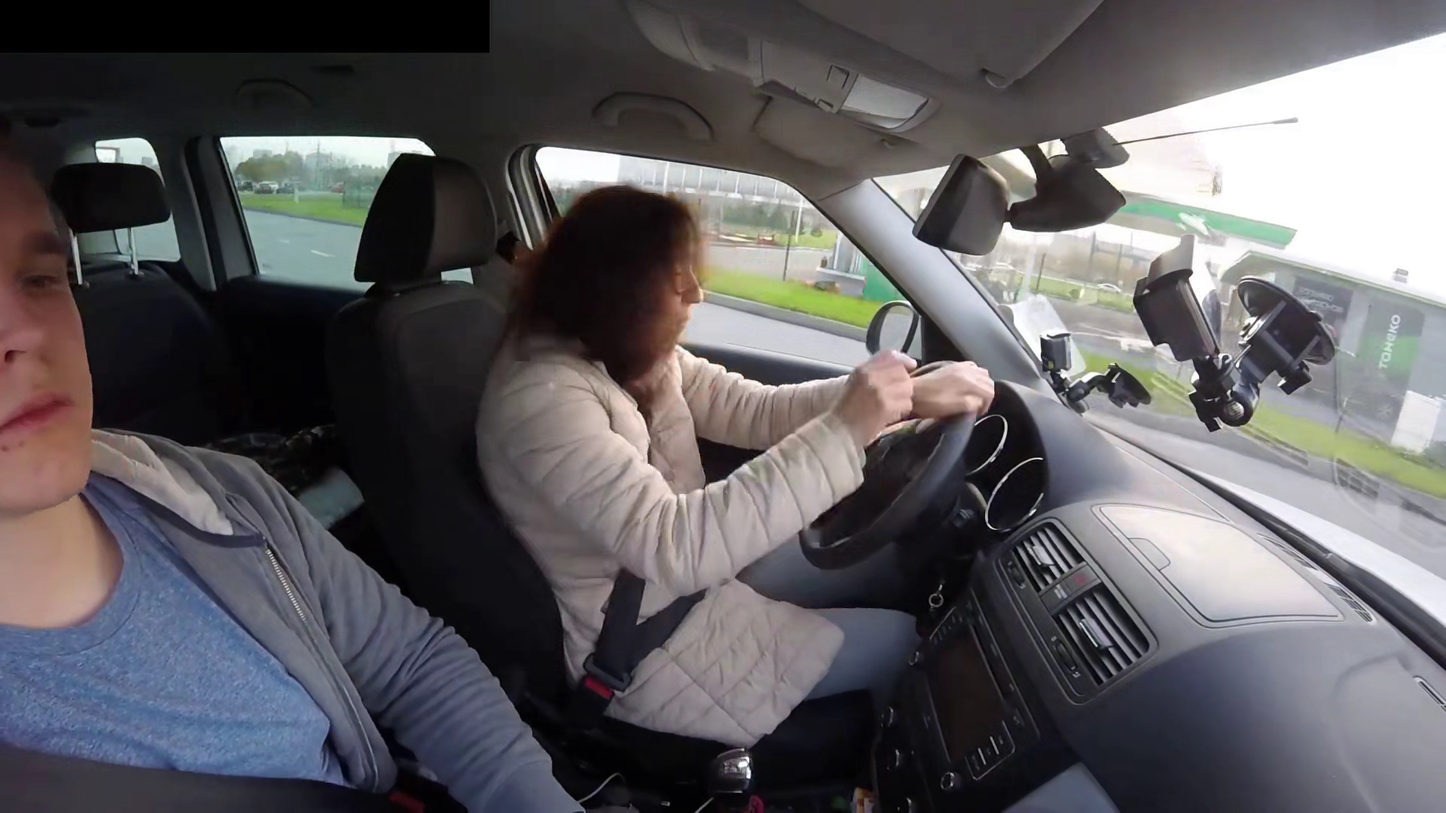bus: (1, 106, 791, 770)
pedestrian: (439, 167, 739, 761)
